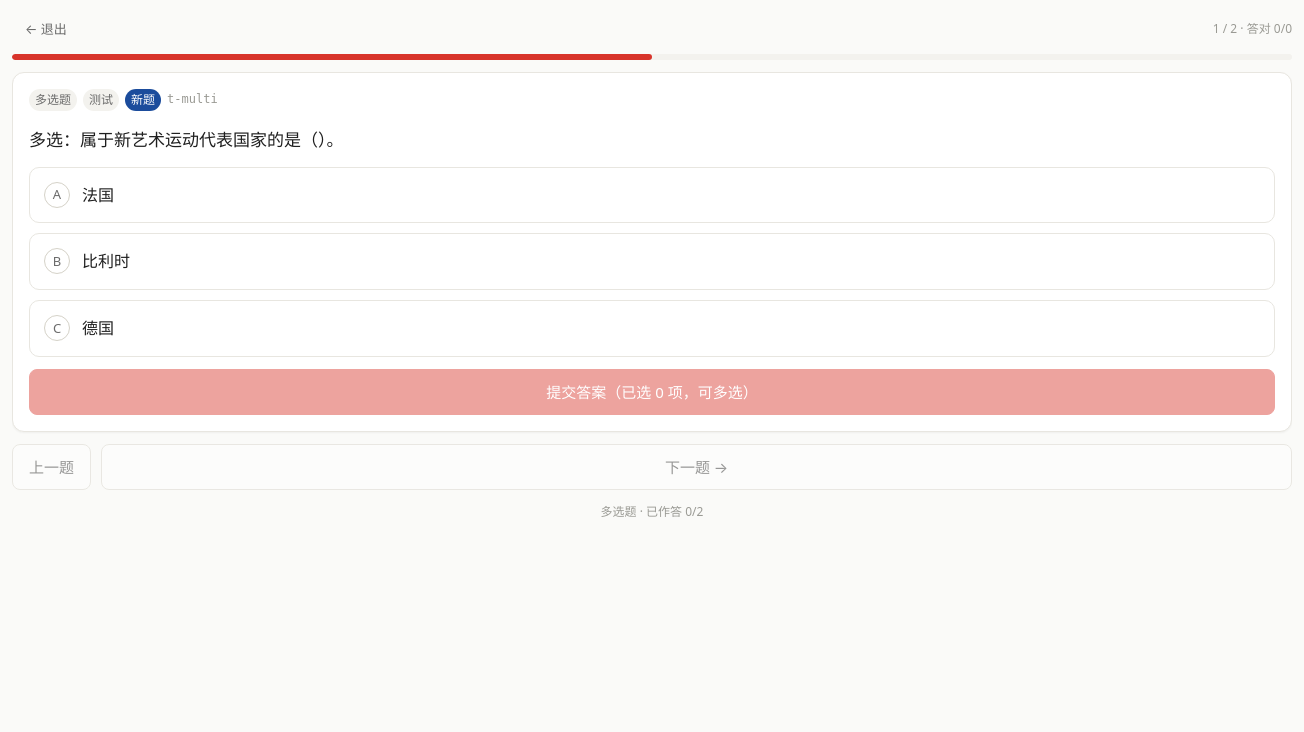
Test: 答题流程 · 下一题推进 › 多选题：未提交时禁用下一题，提交后可推进
The image size is (1304, 732).
Expected: the button "下一题 →" is disabled, left=101, top=444, right=1292, bottom=490
Click the text "法国" at (98, 195), box left=82, top=184, right=114, bottom=206
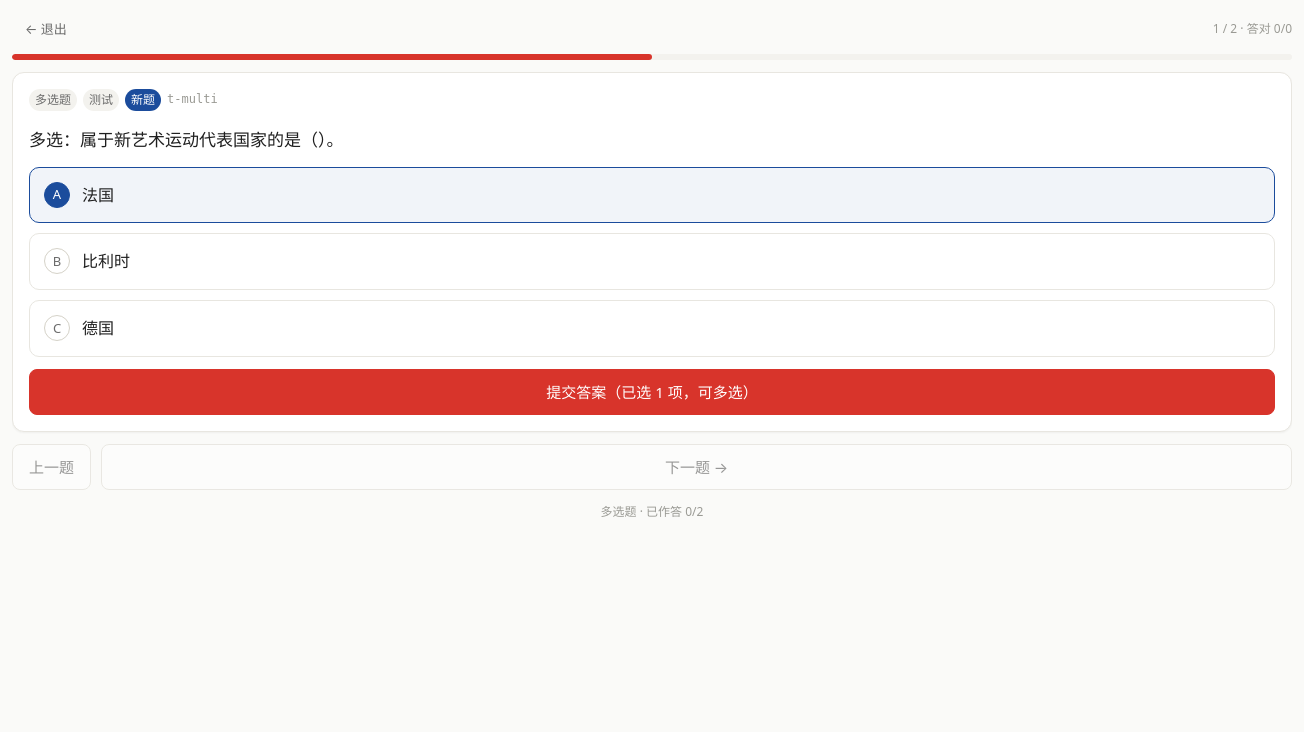
Click the text "比利时" at (106, 261), box left=82, top=250, right=130, bottom=272
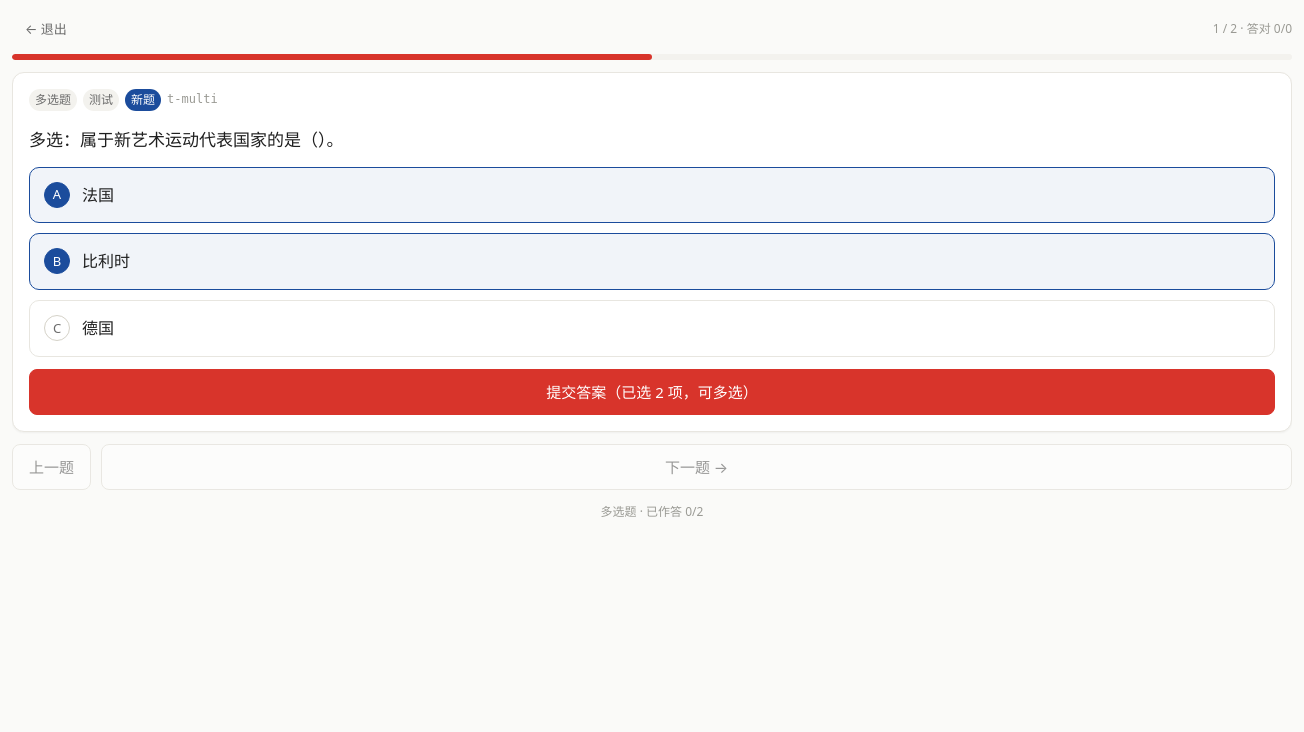
Expected: the button "下一题 →" is disabled, left=101, top=444, right=1292, bottom=490
Click the button "提交答案（已选 2 项，可多选）" at (652, 392), box left=29, top=368, right=1275, bottom=414
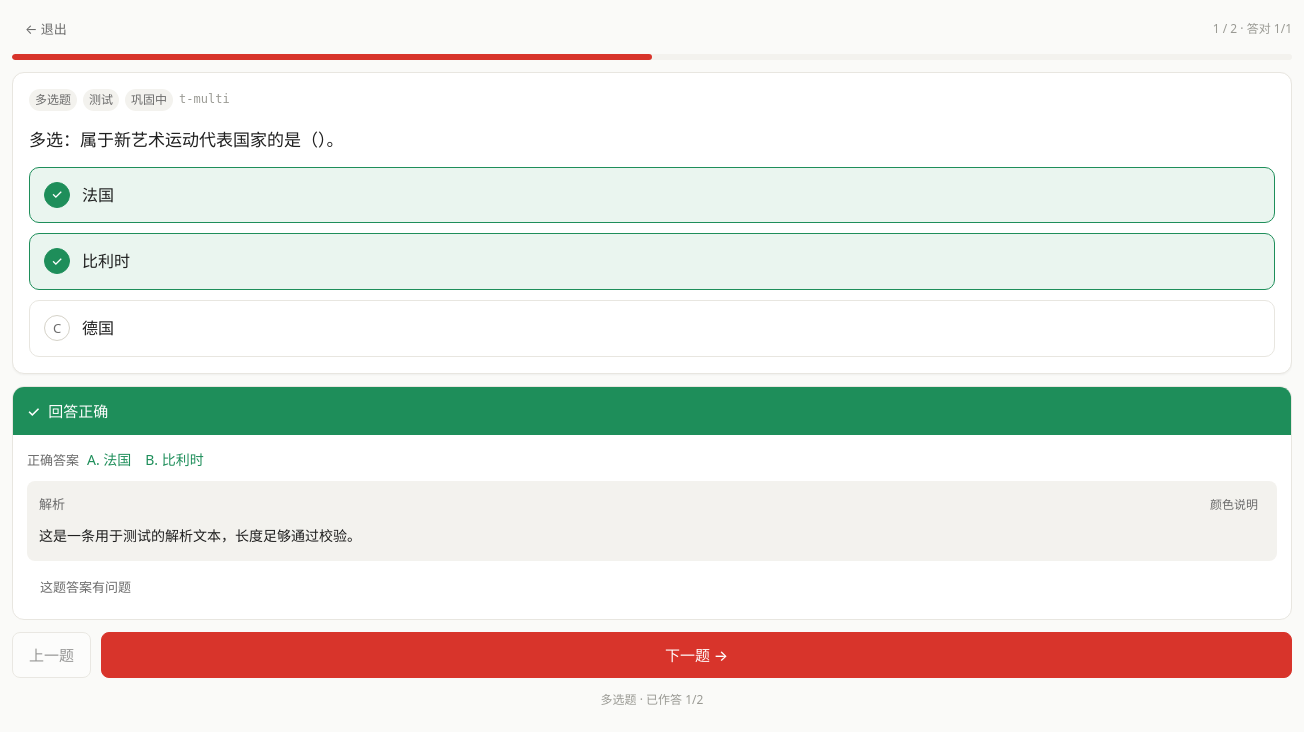
Expected: the button "下一题 →" is enabled
Click the button "下一题 →" at (696, 655), box left=101, top=632, right=1292, bottom=678
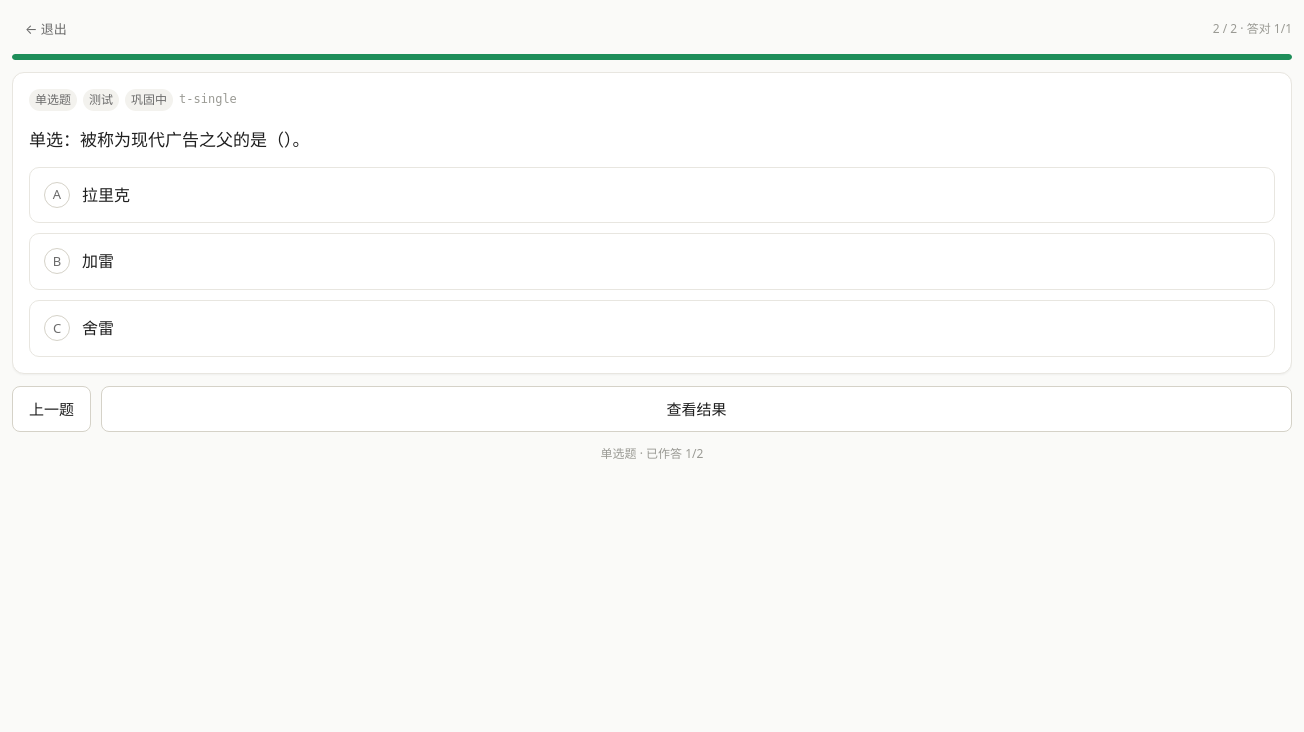
Expected: the text "2 / 2 · 答对 1/1" is shown, left=1213, top=19, right=1292, bottom=39
